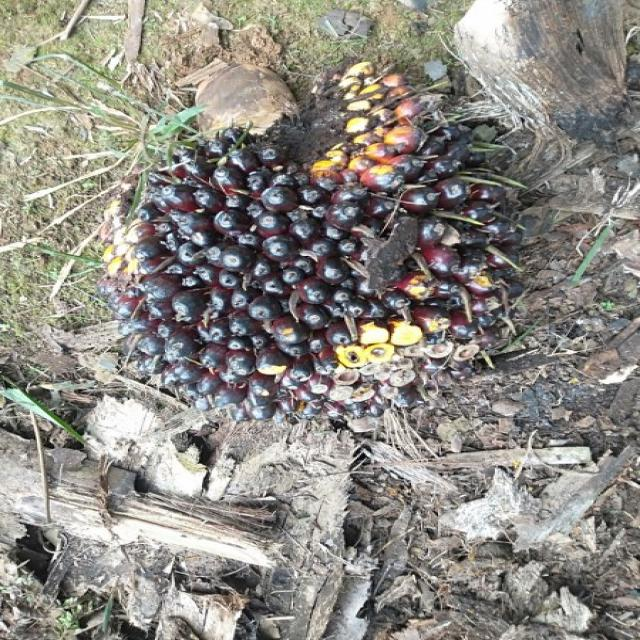fraksi 1: (35, 10, 610, 551)
